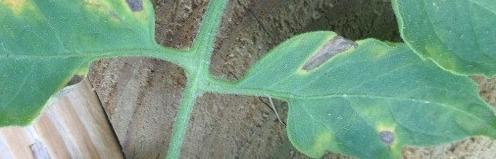Tomato leaf bacterial spot: (233, 14, 491, 159), (0, 0, 166, 146)
